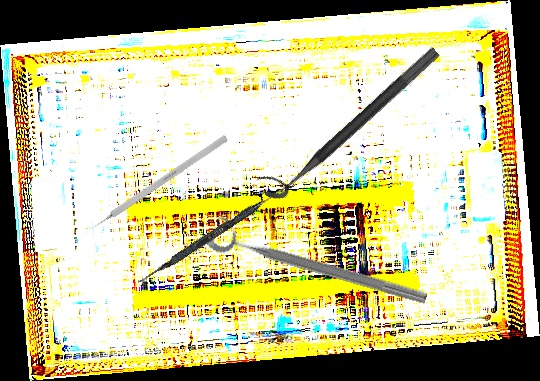Fixation Ring: (253, 32, 442, 207), (203, 212, 433, 311)
Hook Surgical: (82, 134, 229, 237)
Spatula Surgical: (136, 177, 296, 289)
